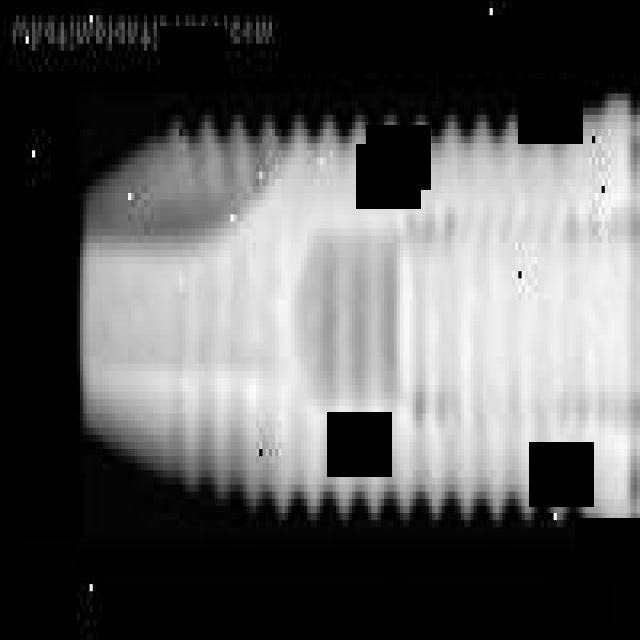OCO Biomedical Implant: (80, 92, 640, 540)
